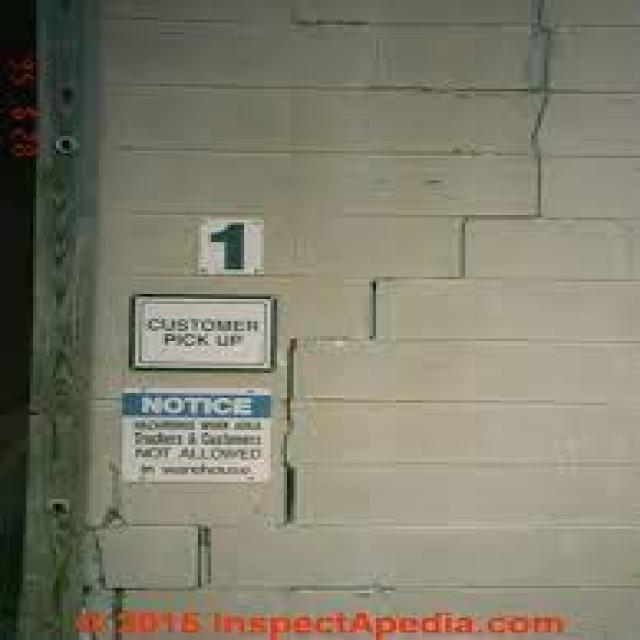Crack: (277, 0, 548, 524)
